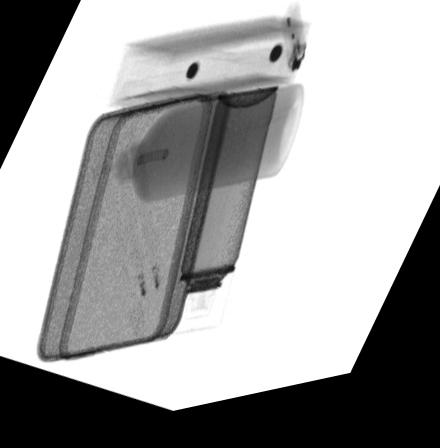Lighter: (279, 14, 307, 90)
Sprayer: (166, 97, 278, 342)
